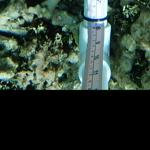dead: (4, 3, 71, 86)
